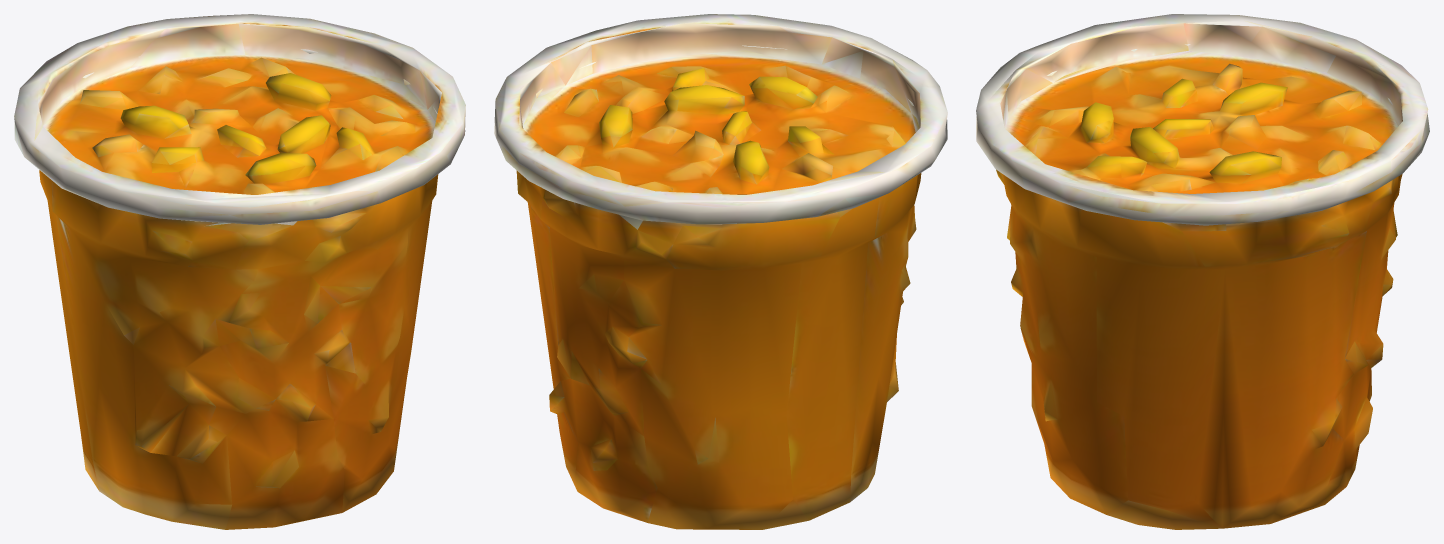
3 views of the same model, side by side, from view 1: azimuth 30°, elevation 25°; view 2: azimuth 150°, elevation 25°; view 3: azimuth 270°, elevation 25° (orthographic).
Parts seen in each view (by area): view 1: sikhye; view 2: sikhye; view 3: sikhye.
Boxes of the visible parts, x1,y1,x2,y2 form: sikhye: (14,14,465,529); sikhye: (494,14,947,529); sikhye: (976,14,1429,529).
Bounding box in the file's own units: 0.1841 × 0.16 × 0.1842.
Materials: 1 (1 with a texture image).
